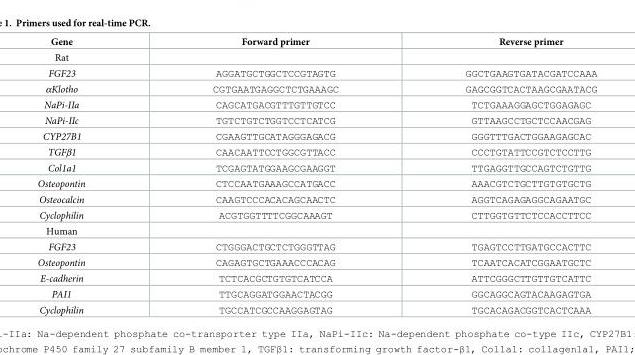table: (36, 36, 596, 316)
table column: (148, 36, 401, 316), (401, 36, 596, 316), (36, 36, 148, 316)
table column header: (36, 36, 596, 49)
table projected row header: (36, 49, 596, 64), (36, 223, 596, 238)
table row: (36, 206, 596, 223), (36, 64, 596, 80), (36, 80, 596, 96), (36, 96, 596, 112), (36, 112, 596, 128), (36, 143, 596, 159), (36, 159, 596, 175), (36, 175, 596, 191), (36, 238, 596, 254), (36, 254, 596, 270), (36, 285, 596, 301), (36, 49, 596, 64), (36, 128, 596, 143), (36, 191, 596, 206), (36, 223, 596, 238), (36, 270, 596, 285), (36, 301, 596, 316), (36, 36, 596, 49)
